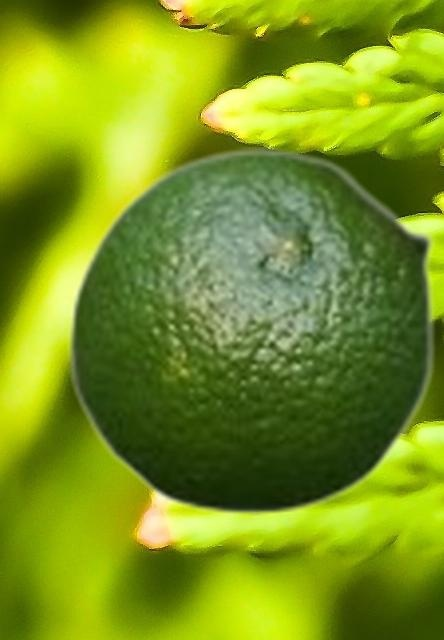calamansi: (67, 147, 437, 517)
